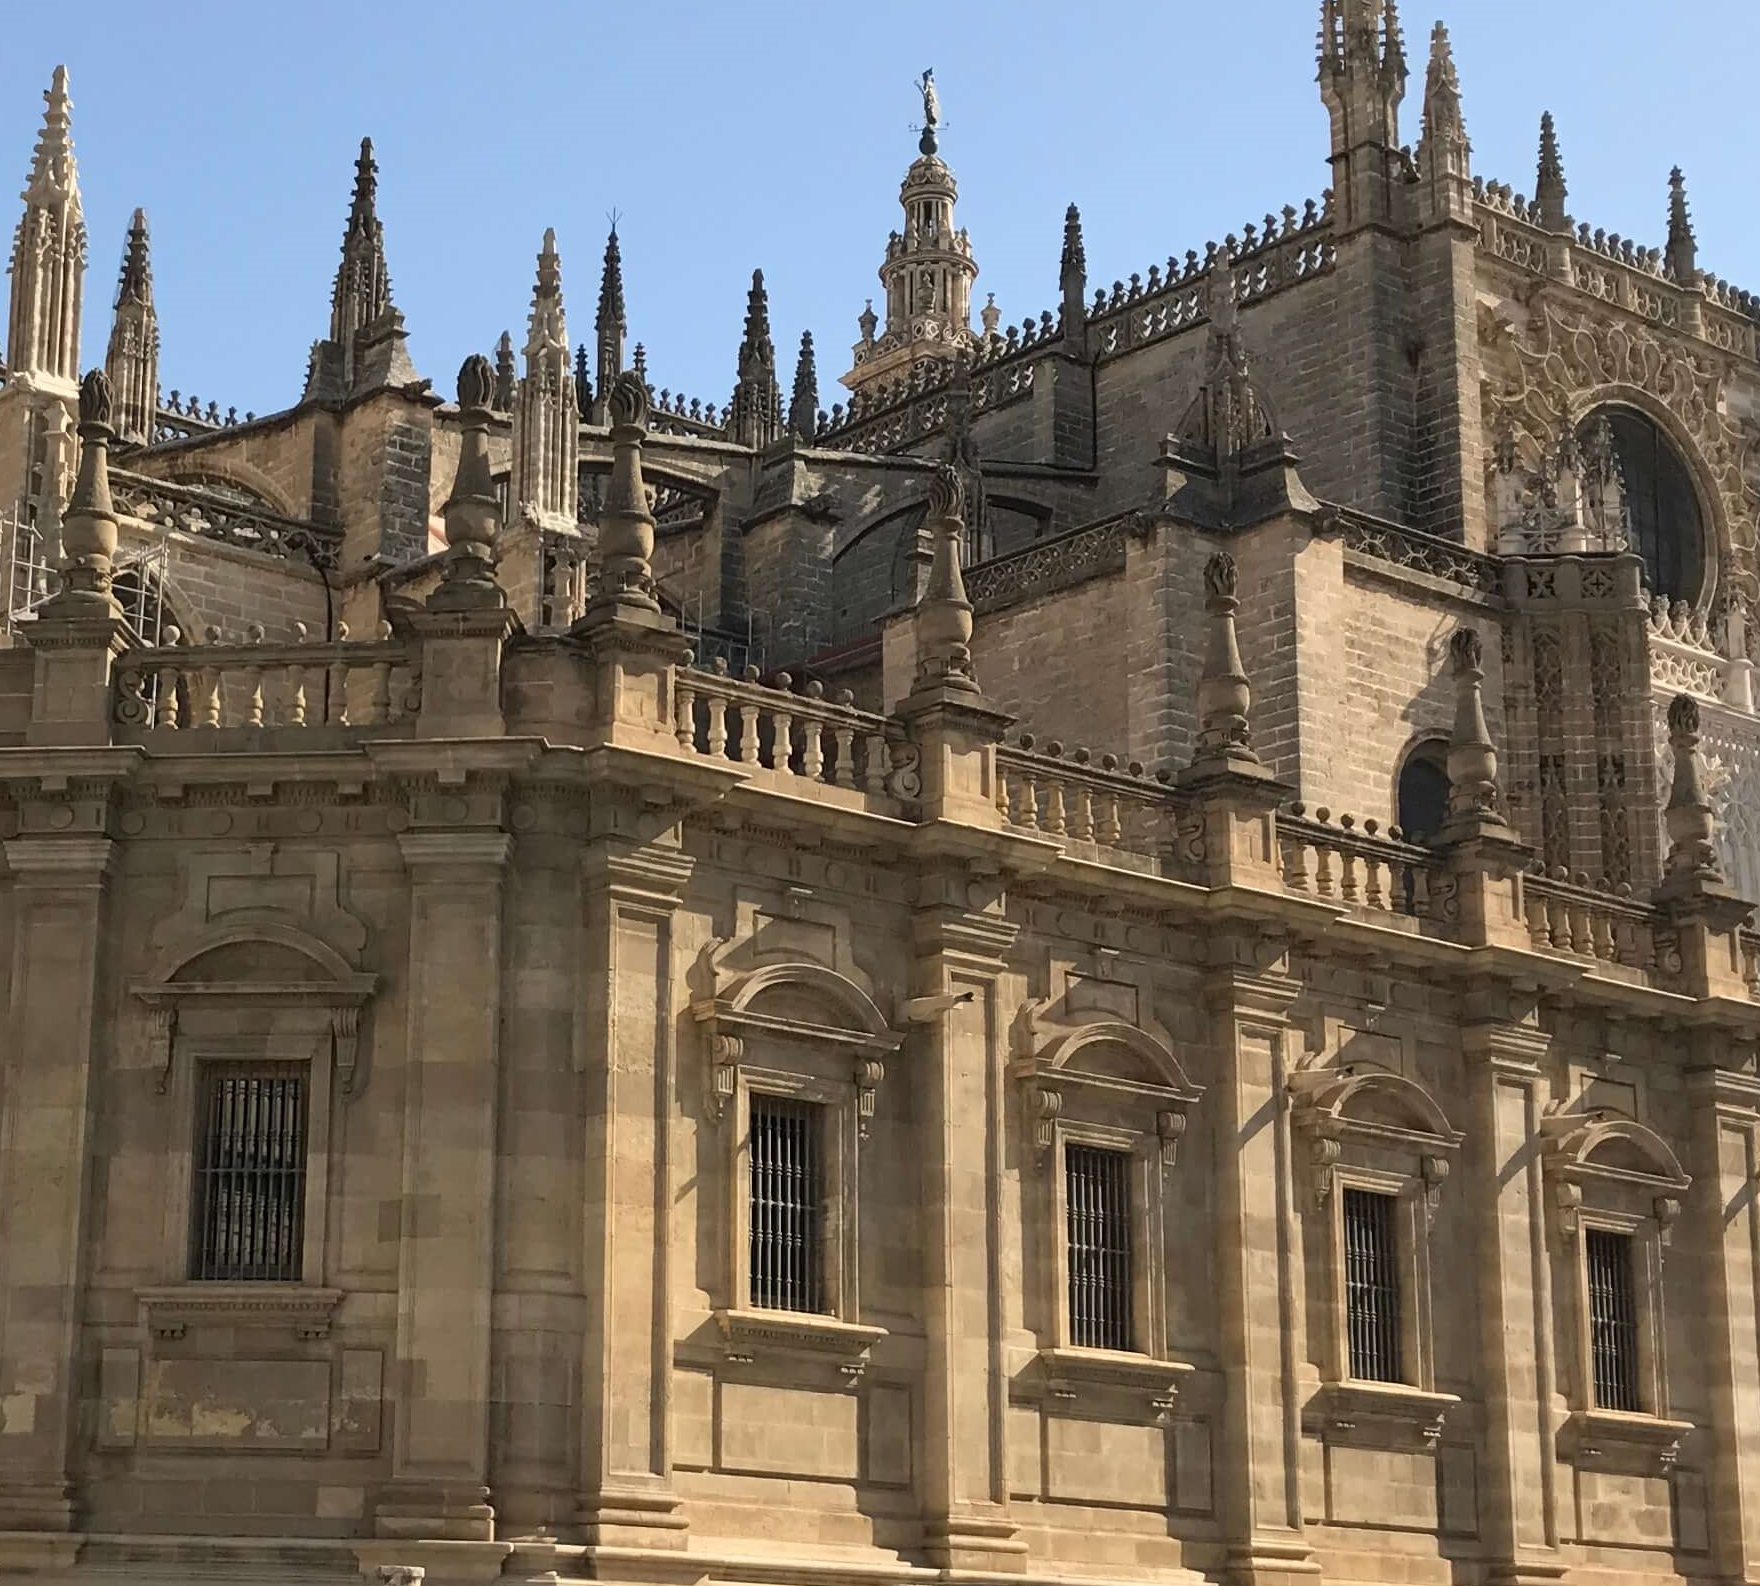fronton-curvo: (138, 915, 367, 1004), (715, 958, 895, 1059), (1048, 1013, 1195, 1107), (1325, 1065, 1459, 1156), (1569, 1116, 1690, 1196)
pinaculo-gotico: (5, 60, 107, 262), (320, 118, 403, 318), (107, 197, 165, 334), (520, 217, 575, 360), (727, 251, 784, 378), (588, 220, 637, 344), (1654, 148, 1703, 260), (1416, 11, 1468, 112), (1527, 95, 1572, 204), (787, 320, 833, 404), (1056, 193, 1090, 292)
vano-adintelado: (164, 1030, 335, 1297), (732, 1078, 856, 1326), (1051, 1121, 1155, 1362), (1333, 1163, 1426, 1396), (1576, 1208, 1662, 1425)
